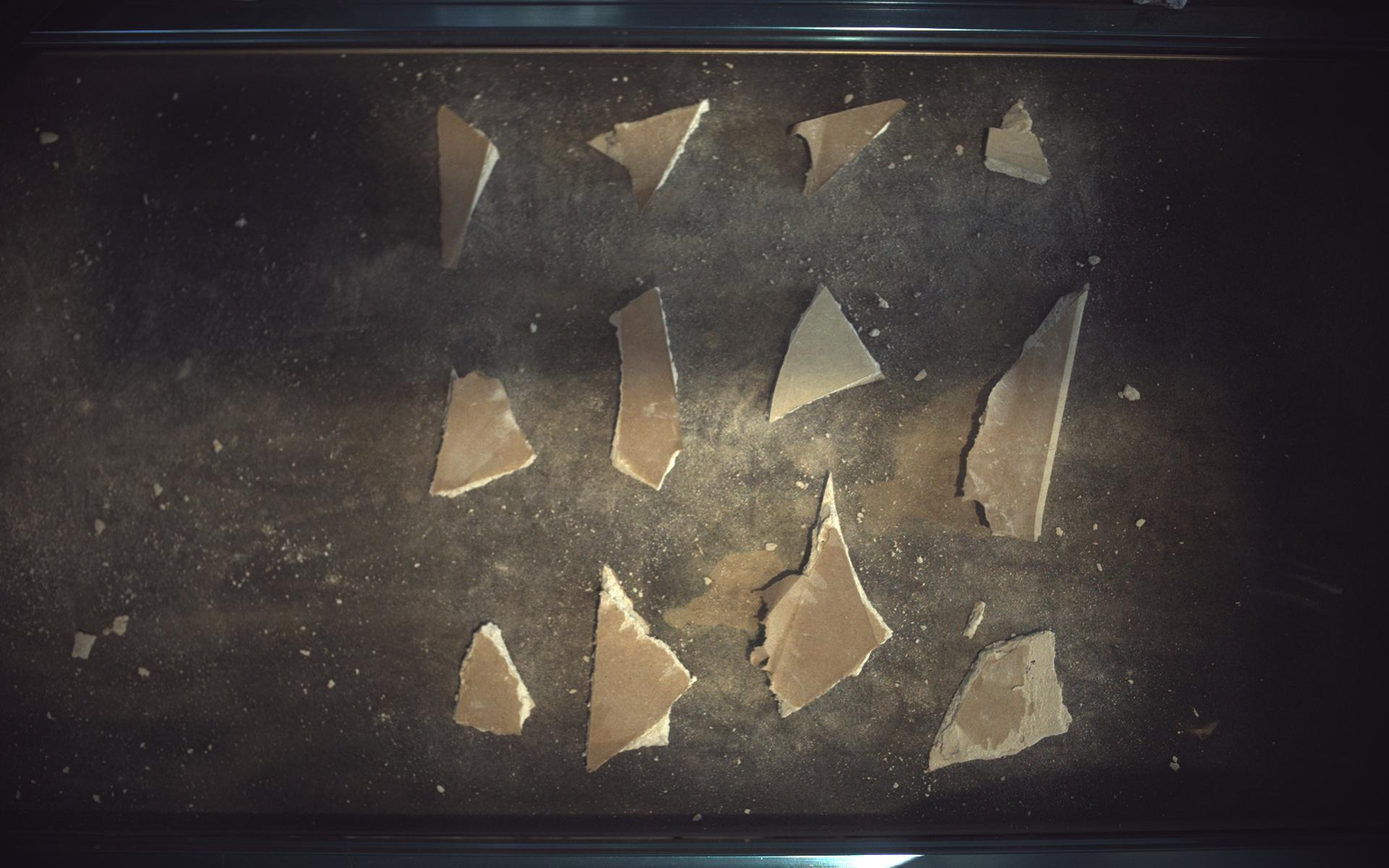gypsum_board: (751, 475, 894, 718), (966, 283, 1092, 542), (587, 566, 697, 773), (931, 632, 1074, 772), (770, 283, 885, 422), (611, 287, 684, 490), (589, 98, 710, 211), (430, 370, 535, 498), (793, 98, 908, 195), (437, 104, 500, 268), (454, 624, 535, 736), (987, 98, 1053, 184)
